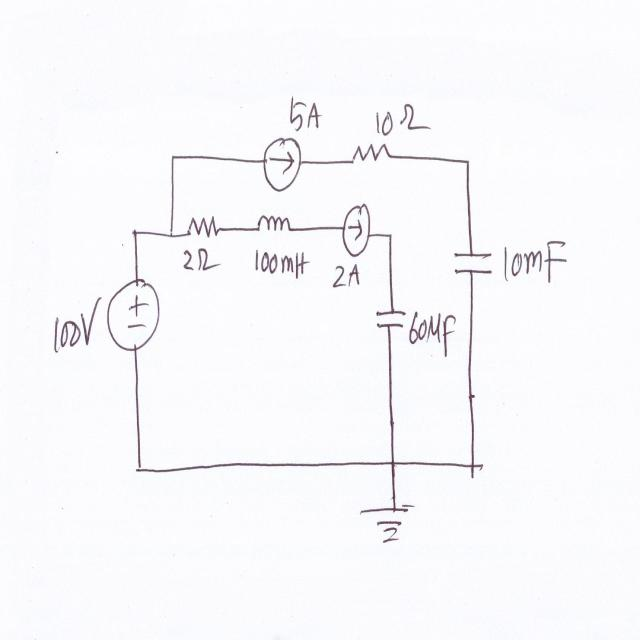capacitor: (450, 244, 498, 286), (370, 300, 410, 336)
current_source: (258, 128, 303, 194), (337, 194, 377, 261)
ground: (351, 494, 417, 546)
inductor: (251, 207, 300, 241)
resistor: (347, 132, 396, 170), (184, 208, 222, 245)
voltage_source: (104, 268, 163, 356)
